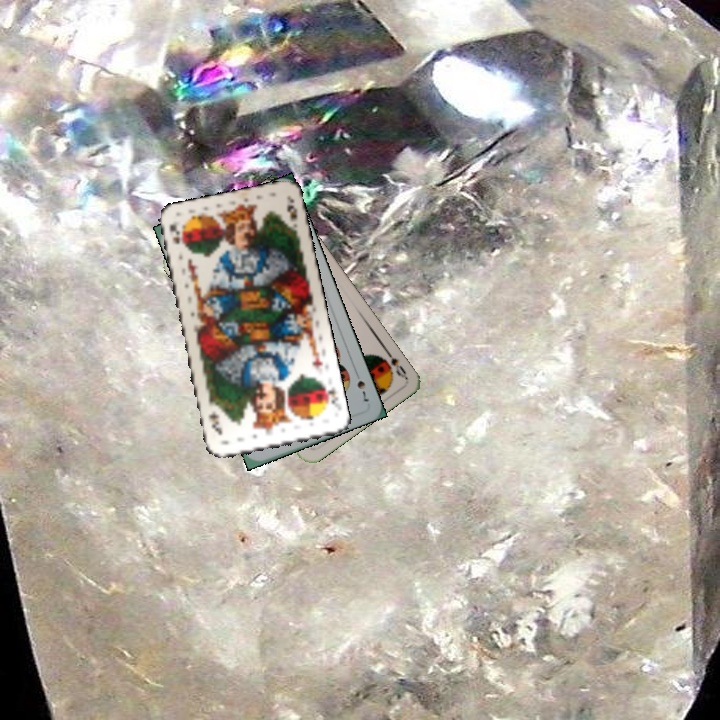S7: (350, 367, 371, 404)
SK: (318, 380, 341, 411), (165, 220, 183, 247)
SO: (379, 344, 409, 380)
